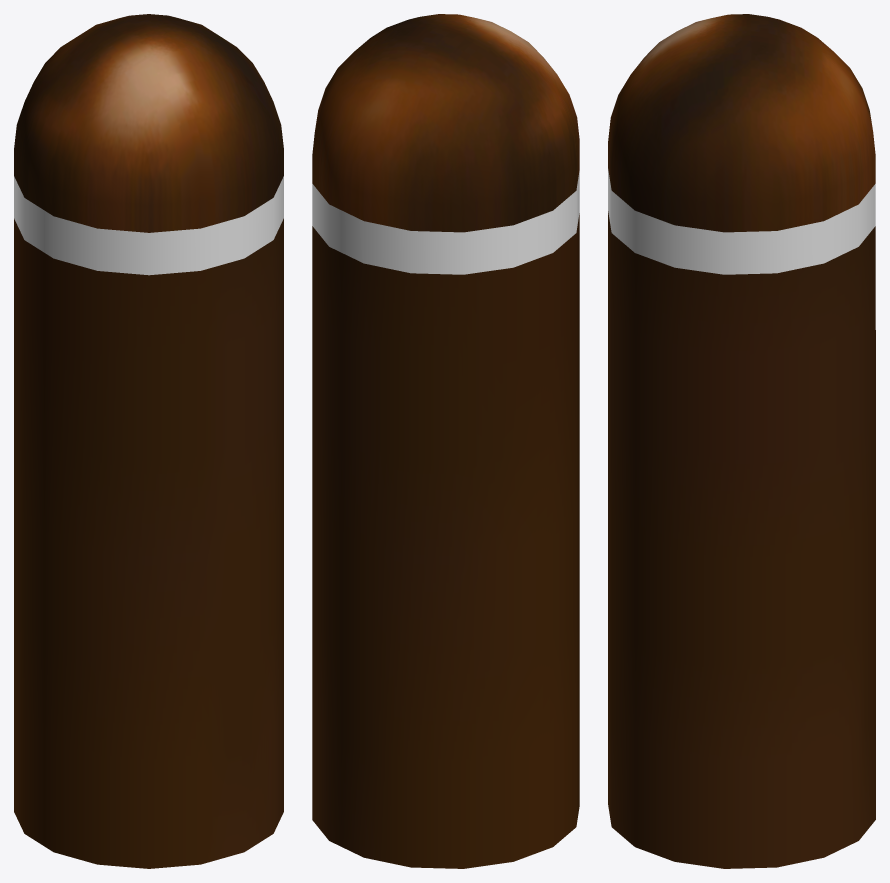
The picture shows the model from 3 angles, left to right: view 1: azimuth 30°, elevation 25°; view 2: azimuth 150°, elevation 25°; view 3: azimuth 270°, elevation 25°; orthographic projection.
Visible parts, largest first — view 1: Joint_0_Object_1, Joint_0_Object_0; view 2: Joint_0_Object_1, Joint_0_Object_0; view 3: Joint_0_Object_1, Joint_0_Object_0.
Boxes of the visible parts, x1,y1,x2,y2 form: Joint_0_Object_1: [14, 14, 283, 868]; Joint_0_Object_0: [14, 176, 283, 275]; Joint_0_Object_1: [312, 14, 579, 868]; Joint_0_Object_0: [312, 171, 579, 274]; Joint_0_Object_1: [608, 14, 875, 868]; Joint_0_Object_0: [608, 169, 875, 274].
Bounding box in the file's own units: 247 × 799 × 247.
2 materials, 1 textured.
